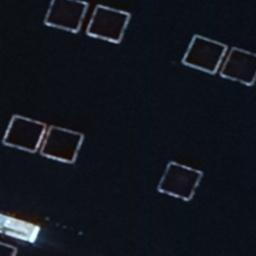square_solid: (176, 28, 232, 80), (151, 157, 204, 207), (35, 119, 86, 170), (1, 107, 50, 158), (81, 3, 135, 49), (215, 40, 256, 92), (40, 1, 94, 35)
